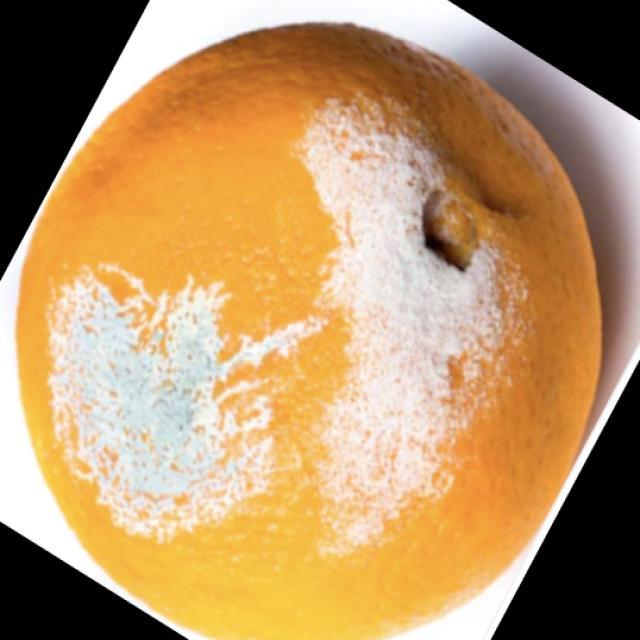sedikit-busuk: (17, 24, 600, 639)
